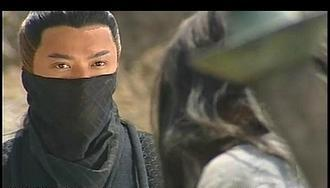OK: (42, 39, 120, 117)
